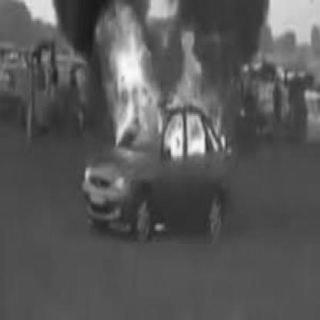Fire: (164, 18, 224, 156)
other: (205, 1, 273, 57)
